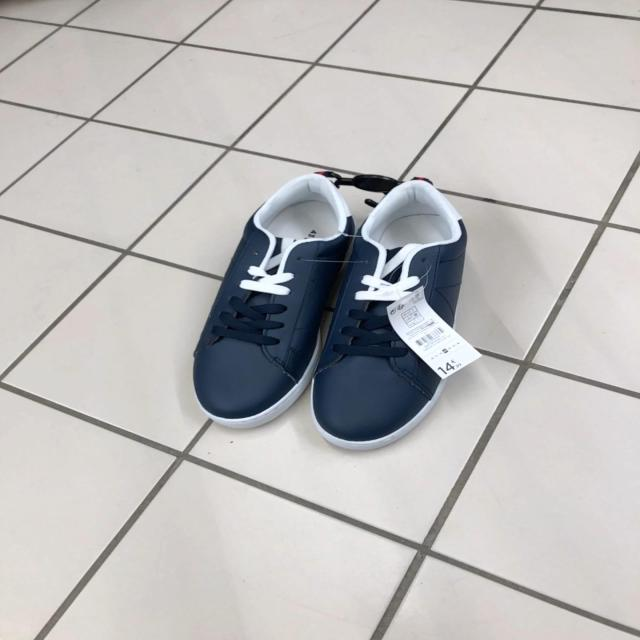shoe: (313, 178, 481, 455), (192, 175, 358, 432)
